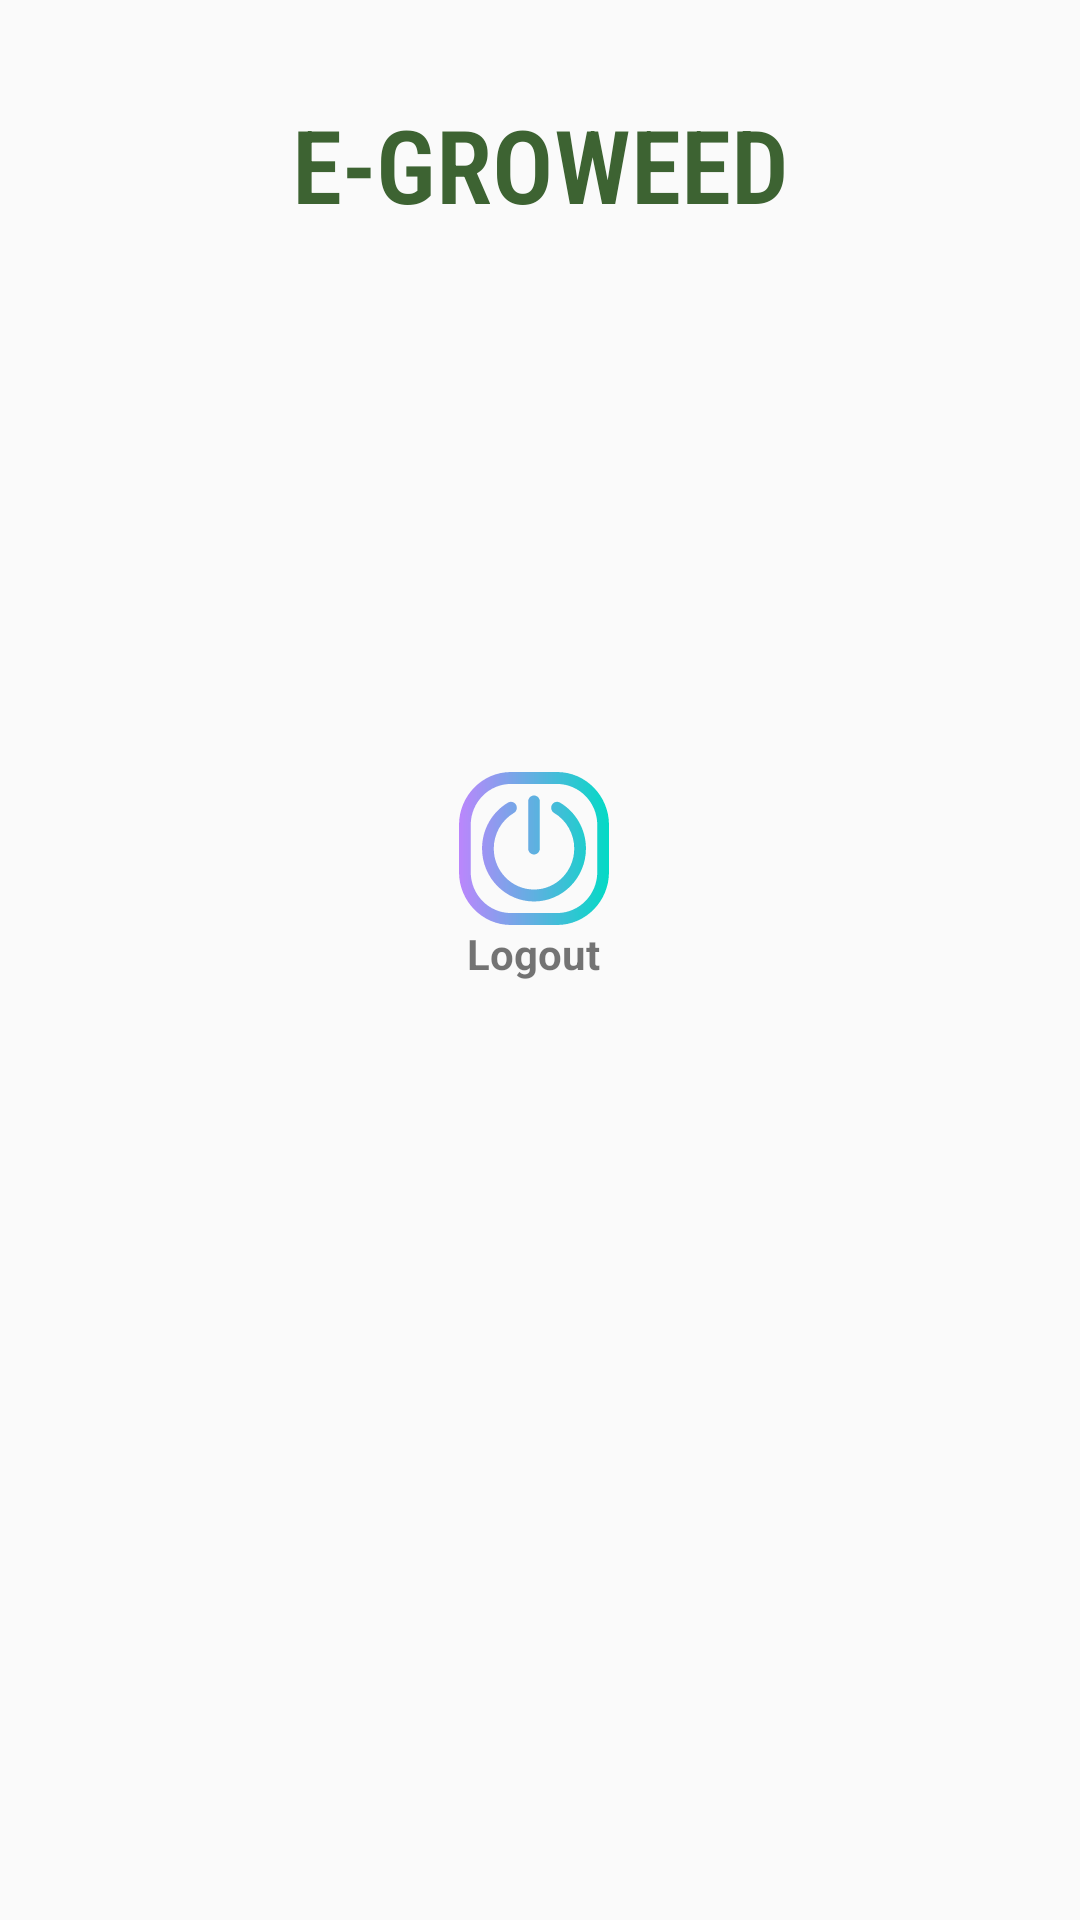

Screen size 1080*1920. Icon name, then its center in pixels as [x,y]:
switch off: [534,848]
